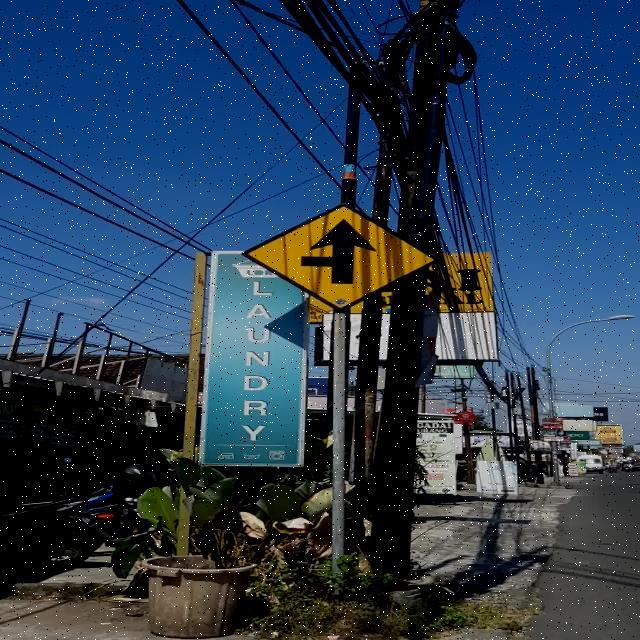Persimpangan 3 Prioritas Kiri: (241, 203, 441, 312)
